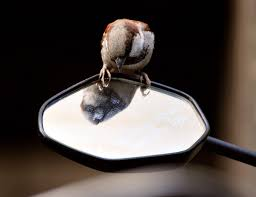hsparrow: (90, 13, 170, 96)
